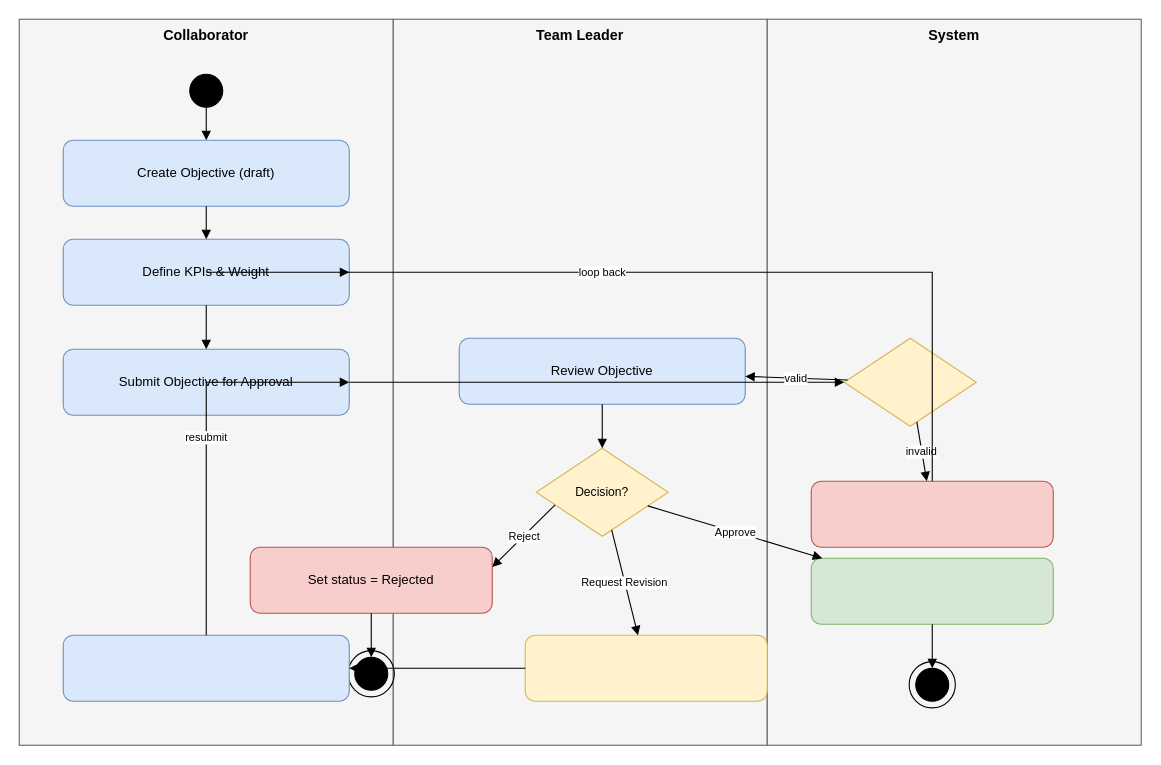
This 1161x765 diagram has some shape labels left out. Each missing label, with the centre of its shape:
"Return validation error" belongs at (931,513).
"Revise Objective" belongs at (205,667).
"Set status = Approved" belongs at (931,590).
"Set status = RevisionRequested" belongs at (645,667).
"Weight in [1, 100]?" belongs at (909,381).
